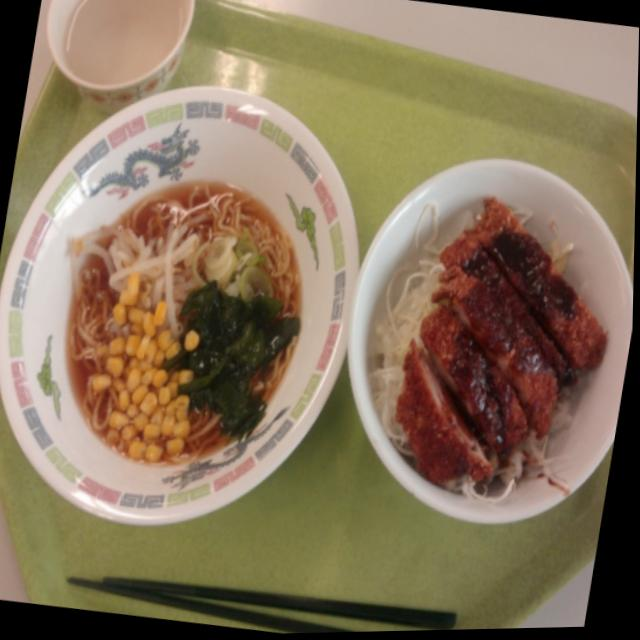面条主食: (0, 48, 397, 557)
